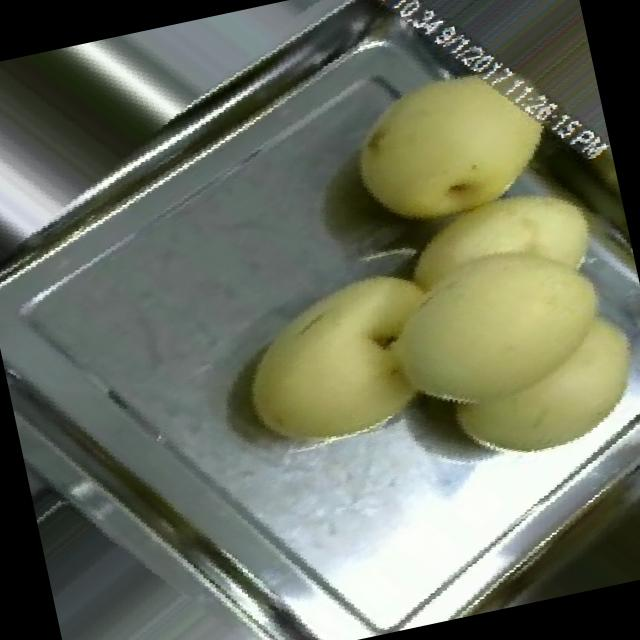Fruit: (325, 138, 640, 515), (197, 225, 493, 482), (310, 21, 588, 270)
